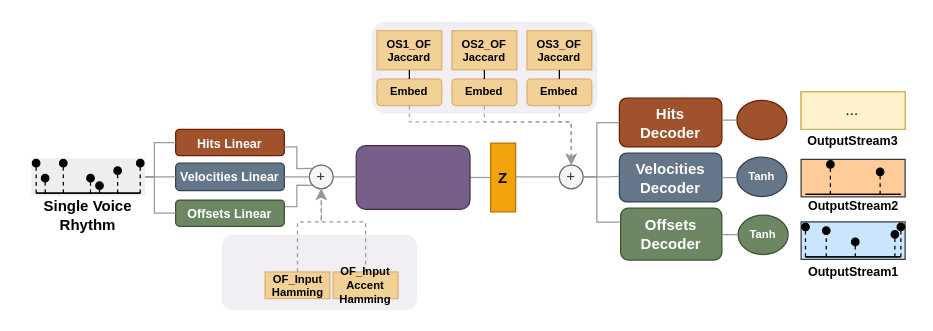
This 933x331 diagram has some shape labels left out. The box of each missing label's shape, as (x1, y1, x2, y2) in pixels:
Sigmoid: (736, 99, 787, 140)
Variational Encoder: (355, 144, 470, 209)
